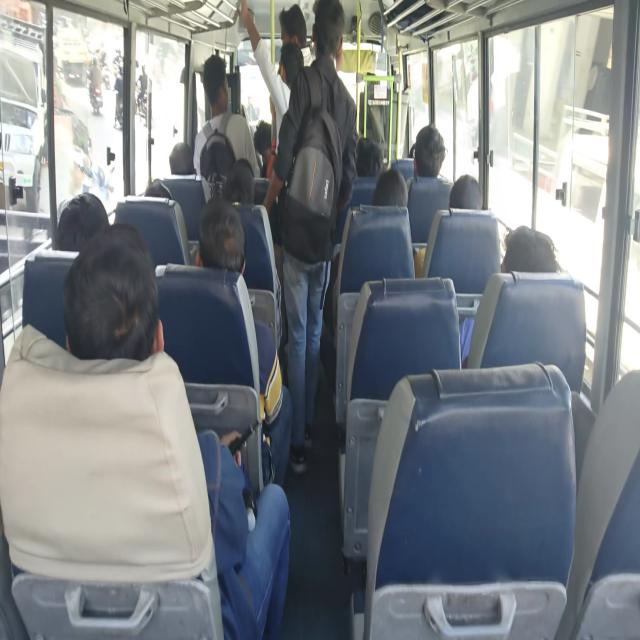person: (76, 226, 155, 373), (507, 226, 557, 305), (202, 204, 254, 278), (312, 0, 348, 75), (451, 159, 489, 229), (65, 187, 106, 251), (376, 170, 414, 235), (204, 63, 243, 123), (410, 126, 444, 188), (223, 162, 258, 213), (165, 140, 200, 182), (273, 48, 305, 92), (278, 8, 305, 53), (352, 140, 383, 176), (135, 183, 177, 204), (232, 156, 259, 183), (405, 137, 429, 166)
